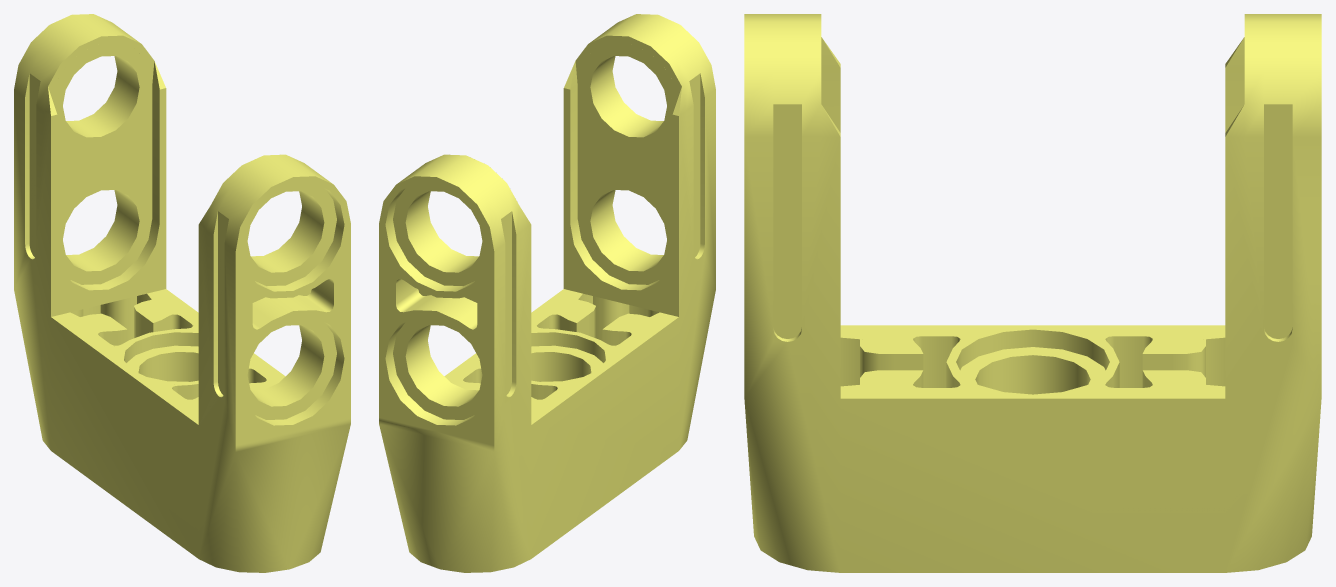
3 renders of one model, left to right at view 1: azimuth 30°, elevation 25°; view 2: azimuth 150°, elevation 25°; view 3: azimuth 270°, elevation 25°, orthographic. The views are drawn at different scales.
Parts seen in each view (by area): view 1: 87408.dat; view 2: 87408.dat; view 3: 87408.dat.
Part boxes in pixels (x1,y1,x2,y2): 87408.dat: (14, 14, 350, 572); 87408.dat: (379, 14, 715, 572); 87408.dat: (744, 14, 1321, 572).
Bounding box in the file's own units: 0.0072 × 0.0236 × 0.024.
